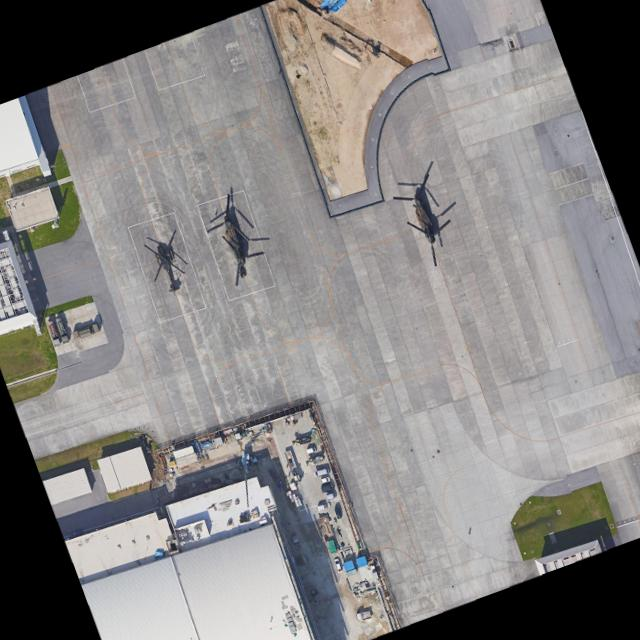large-vehicle: (311, 467, 329, 477)
small-vehicle: (330, 555, 343, 573), (318, 481, 334, 492), (332, 504, 342, 518), (304, 445, 316, 455), (323, 491, 336, 500), (315, 502, 327, 511), (318, 475, 330, 483)
